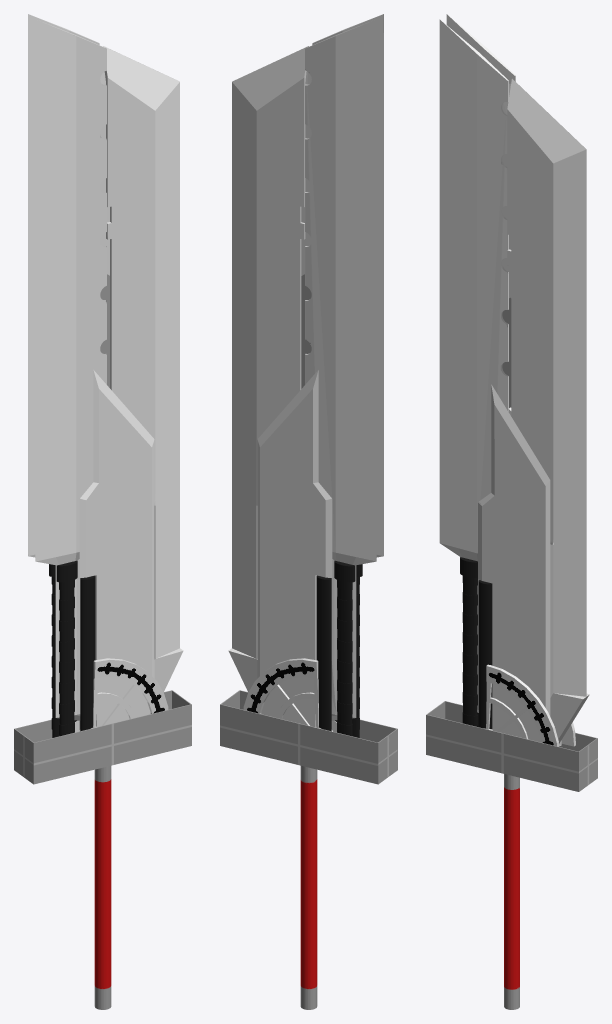
The model's file is unionsword-united.obj.
The picture shows the model from 3 angles, left to right: view 1: azimuth 30°, elevation 25°; view 2: azimuth 150°, elevation 25°; view 3: azimuth 330°, elevation 25°; orthographic projection. The views are drawn at different scales.
Parts seen in each view (by area): view 1: centerplate_center; view 2: centerplate_center; view 3: centerplate_center.
Part boxes in pixels (x1=…): centerplate_center: x1=14, y1=14, x2=191, y2=1009; centerplate_center: x1=220, y1=14, x2=397, y2=1009; centerplate_center: x1=426, y1=14, x2=597, y2=1009.
Size of the model in its own units: 4 by 24.32 by 0.86.
